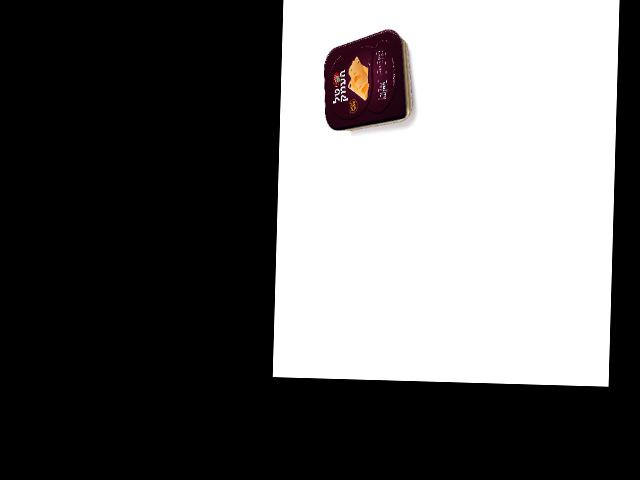cheese: (321, 27, 414, 132)
